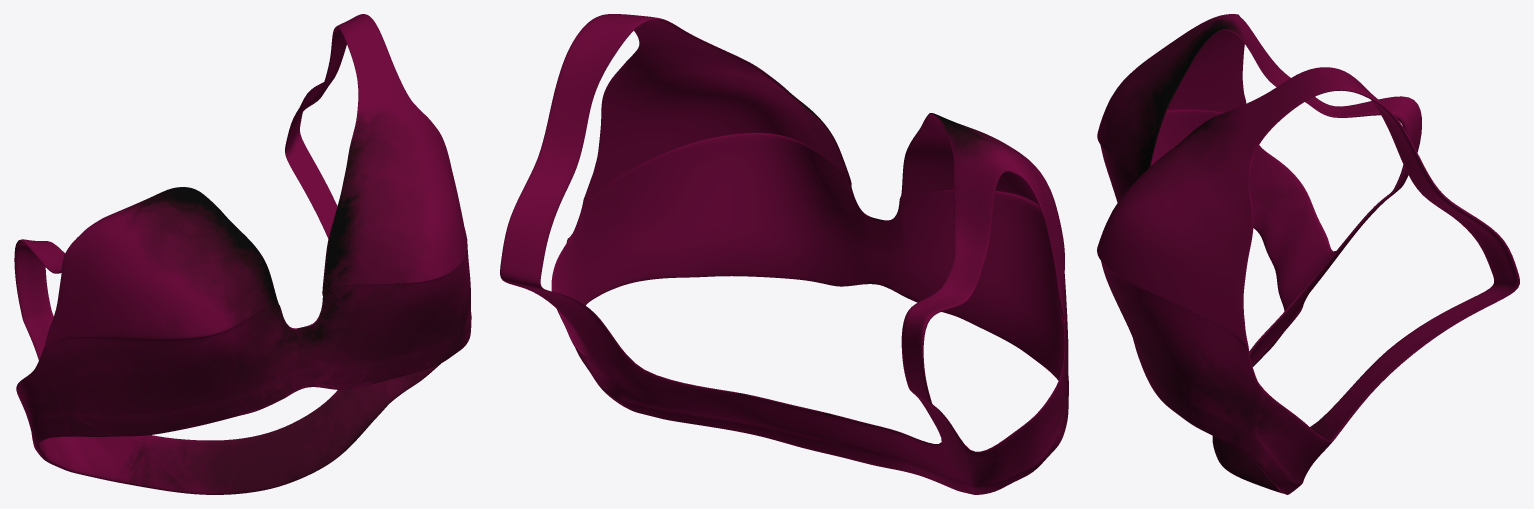
Rendered from daughter_bra.fbx.
The picture shows the model from 3 angles, left to right: view 1: azimuth 30°, elevation 25°; view 2: azimuth 150°, elevation 25°; view 3: azimuth 270°, elevation 25°; orthographic projection. The views are drawn at different scales.
Visible parts, largest first — view 1: daughter_bra; view 2: daughter_bra; view 3: daughter_bra.
Part boxes in pixels (x1,y1,x2,y2): daughter_bra: [14, 14, 471, 494]; daughter_bra: [500, 14, 1068, 494]; daughter_bra: [1097, 14, 1519, 494].
Size of the model in its own units: 13.31 by 11.29 by 9.81.
1 material, 1 textured.
